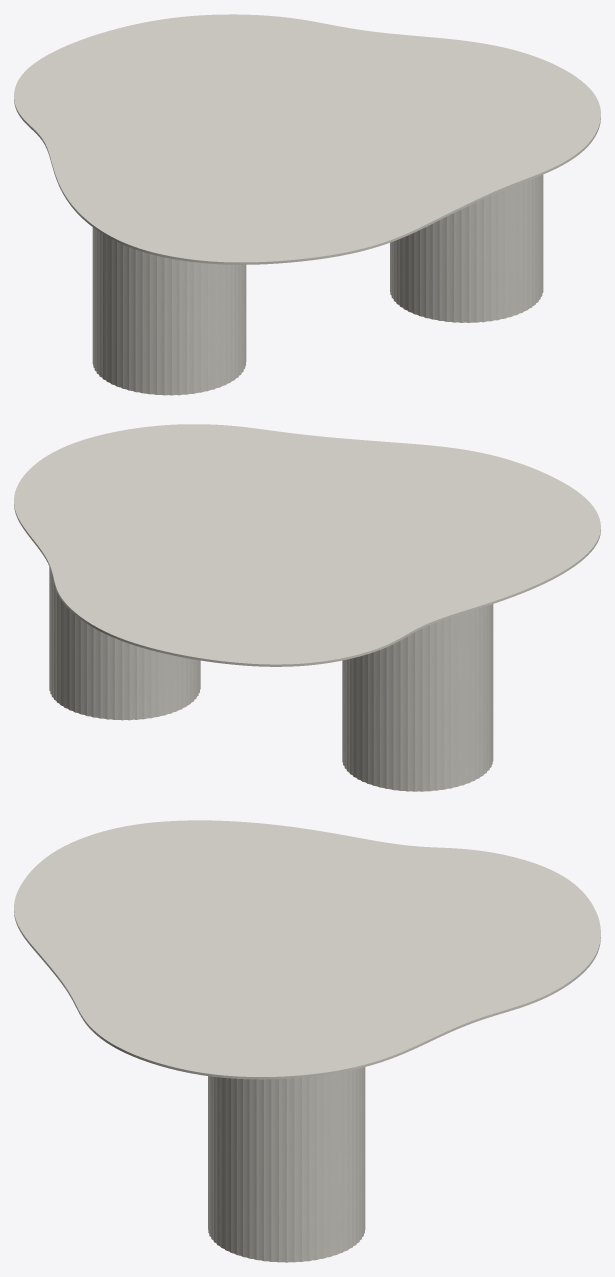
The model's file is pale_topone_facet_ripplesecond.glb.
3 views of the same model, one above another, from view 1: azimuth 30°, elevation 25°; view 2: azimuth 150°, elevation 25°; view 3: azimuth 270°, elevation 25° (orthographic). The views are drawn at different scales.
Parts seen in each view (by area): view 1: facet_topone, ripplesecond; view 2: facet_topone, ripplesecond; view 3: facet_topone, ripplesecond.
Boxes of the visible parts, x1,y1,x2,y2 form: facet_topone: (14,14,600,264); ripplesecond: (92,175,543,395); facet_topone: (14,424,600,666); ripplesecond: (49,567,493,791); facet_topone: (14,820,600,1079); ripplesecond: (208,1067,365,1262).
Size of the model in its own units: 6.83 by 2.5 by 6.6.
Materials: 1 (1 with a texture image).
